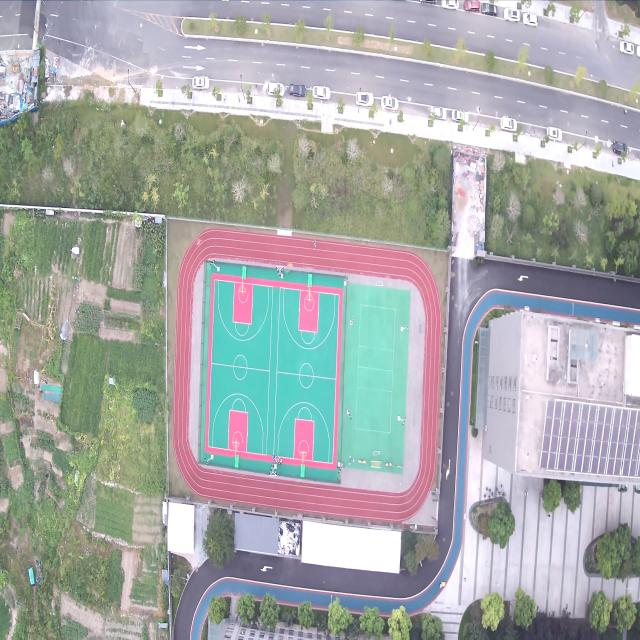drone: (195, 237, 202, 245)
